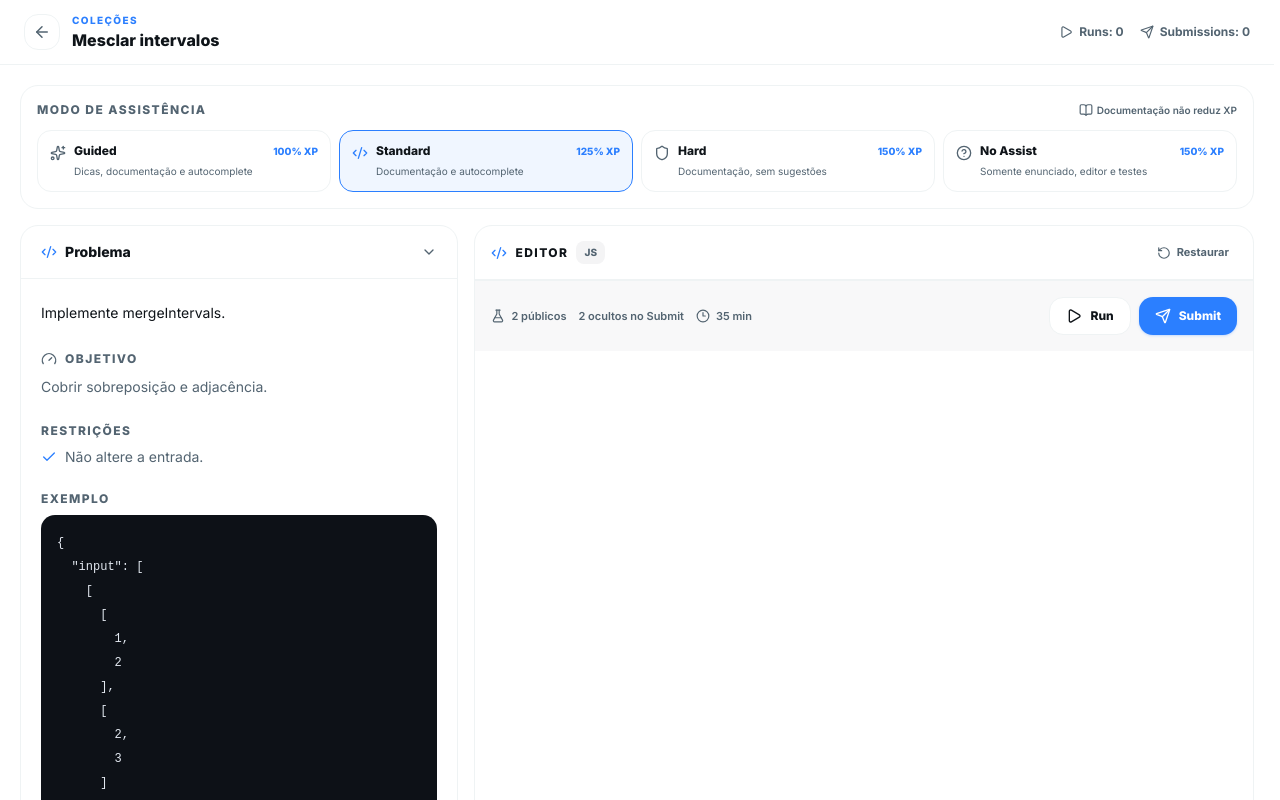
it: ExerciseWorkspace › records Run separately and shows public test feedback
This screenshot has width=1280, height=800.
Click the button "Run" at (1090, 316), box [1050, 297, 1131, 335]
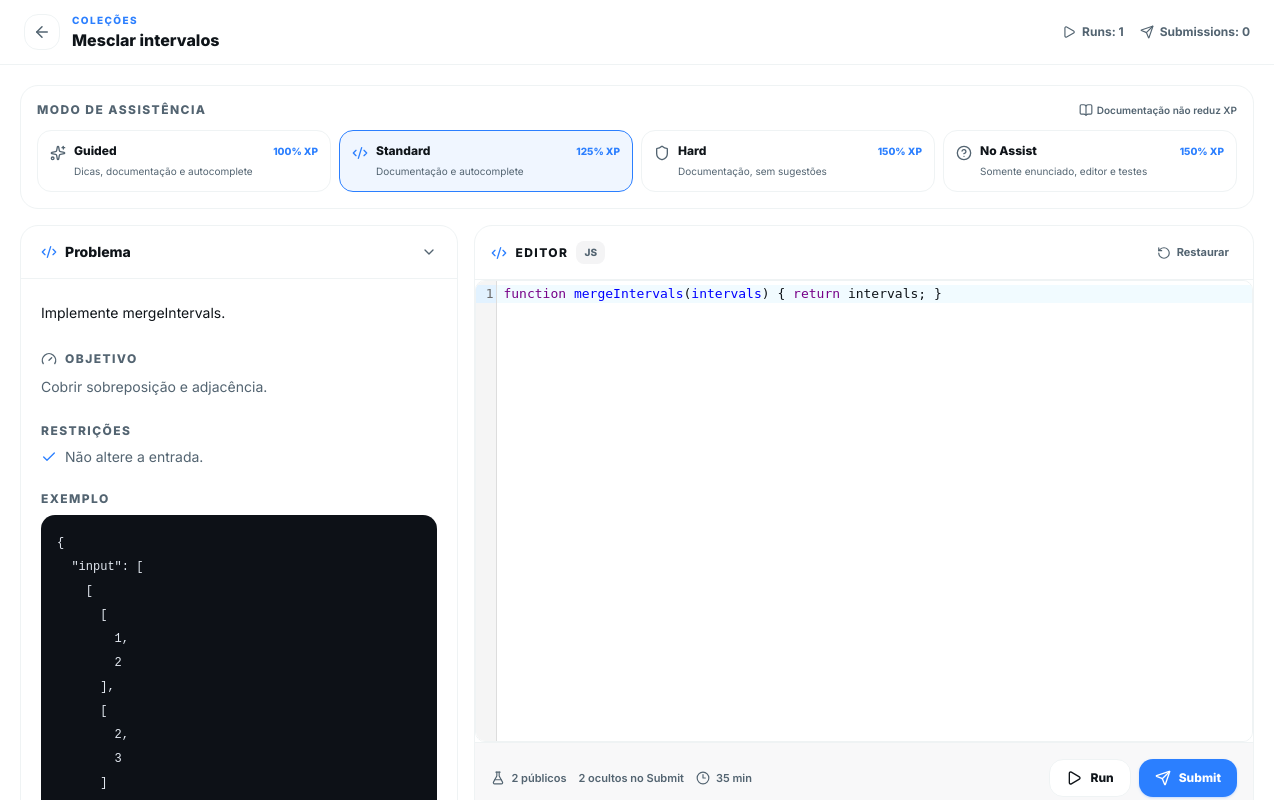
Expected: the text "Submissions: 0" is shown, [1140, 24, 1250, 40]
Now the text "Runs: 1" is shown, box [1062, 24, 1124, 40]
